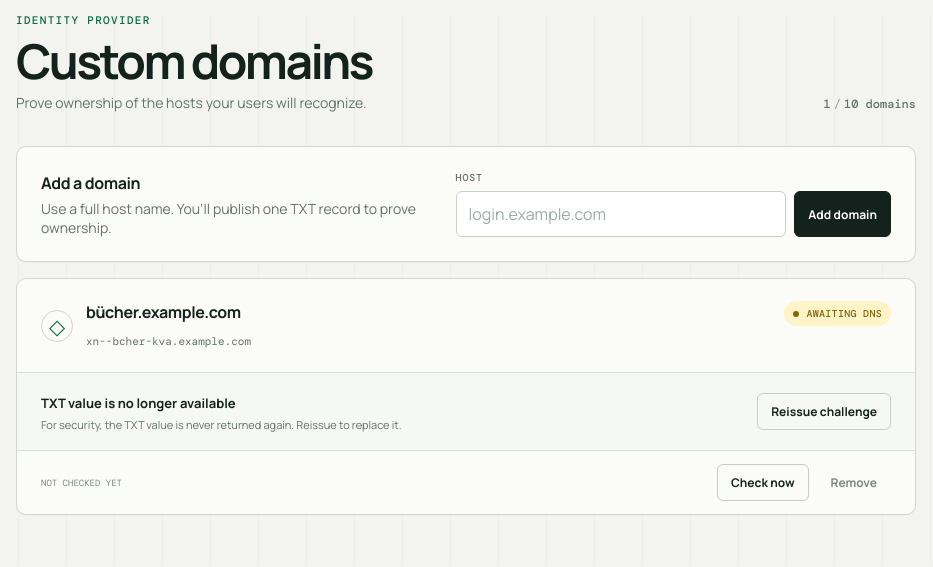
Test: custom domains screen › checks ownership and stops at verified rather than implying serving readiness
The width and height of the screenshot is (933, 567).
Click the button "Check now". click: point(763, 482)
box: [717,464,809,501]
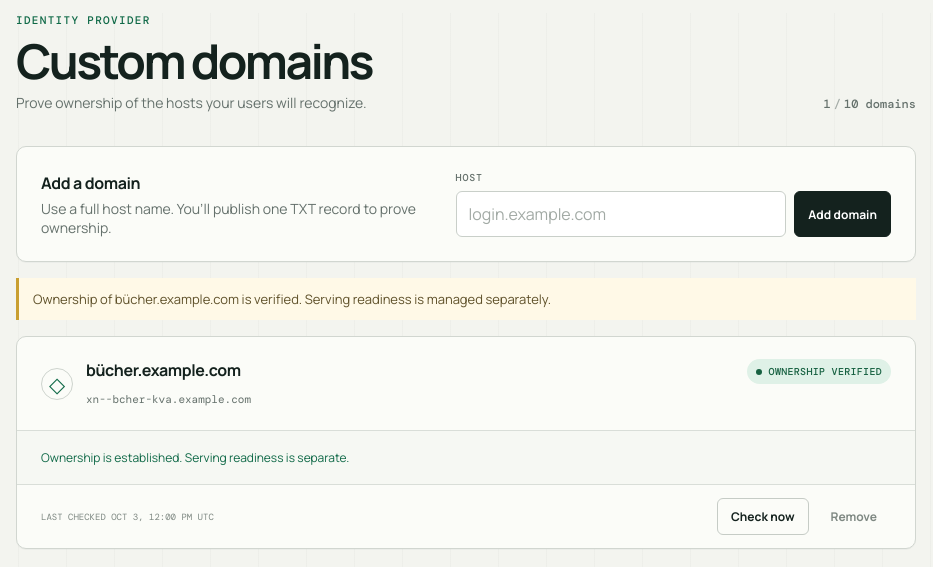
Now the text "Ownership verified" is shown, box [747,359,891,384]
Now the message shows "Serving readiness is managed separately", box [33,290,551,308]
